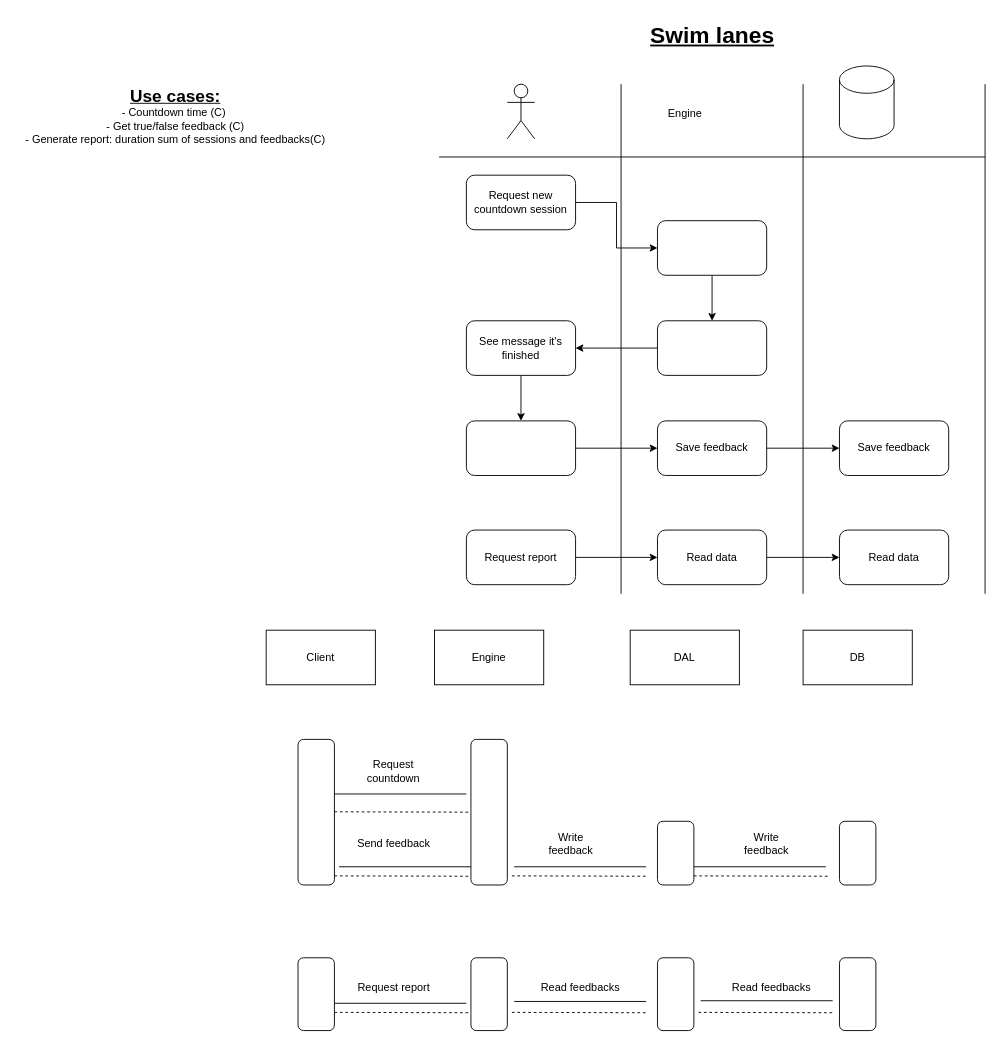
The diagram is 1002 pixels wide and 1047 high, and some of its shapes have lost their labels. Here are the shapes that lost their labels. From the top down, the centre of each, then its label:
At (520,111): "Actor".
At (712,247): "Start countdown".
At (712,347): "Finish countdown".
At (520,447): "Provide optional feedback".
